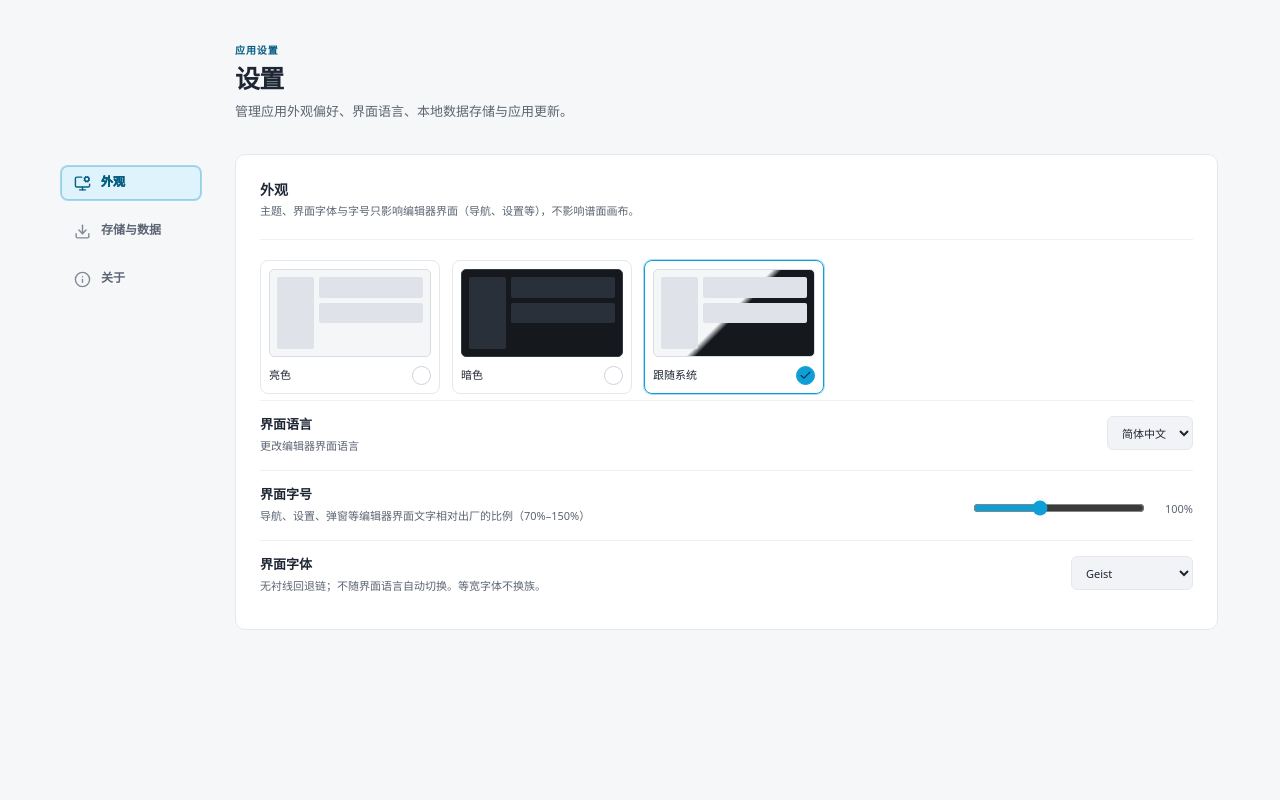
票 14 + 18 + 19 + 48 · 设置页社区素材缓存与数据目录块 › 回收策略项改名：缓存闲置天数 / 缓存上限（MB），各配独立 hint；启动时推送主进程
Step 1. Click the button "存储与数据" → (131, 230), box [61,214,201,248]
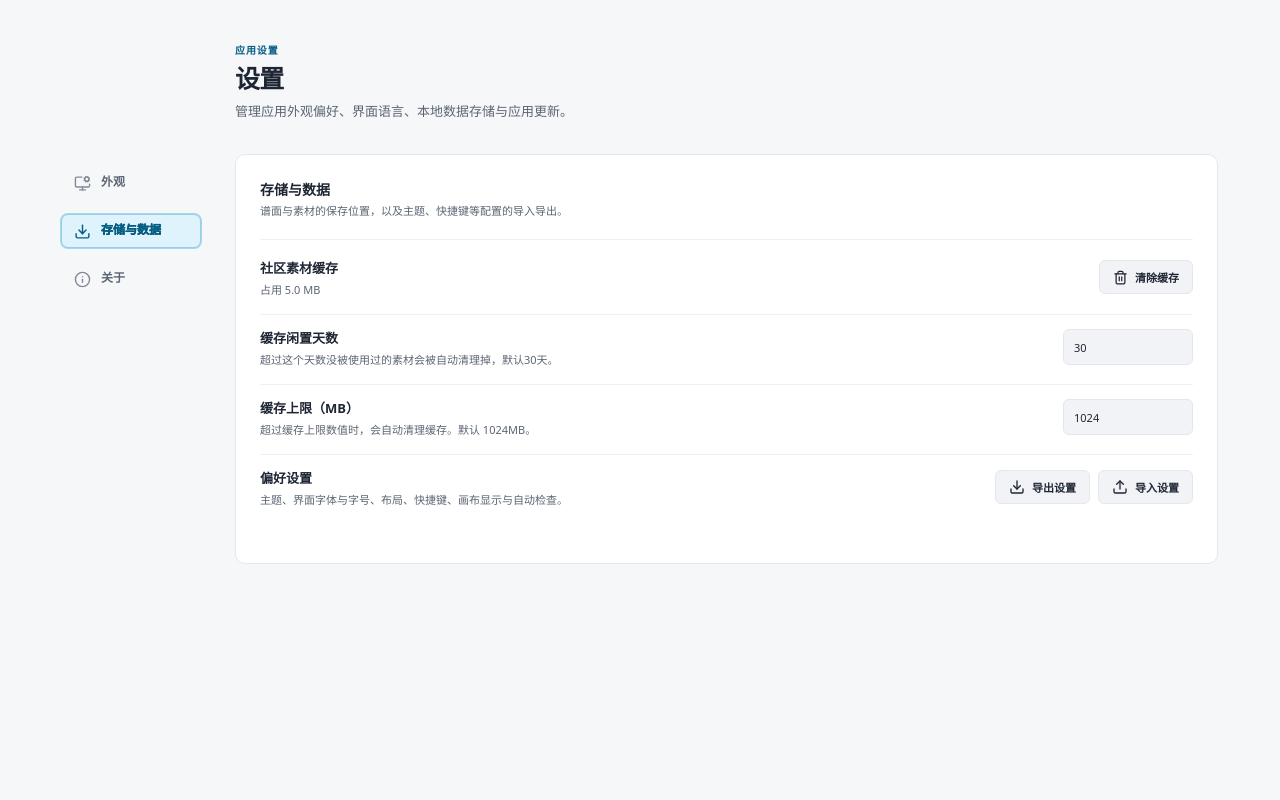
Now the text "社区素材缓存" is shown, box [260,258,338,276]
Now the number field named "缓存闲置天数" holds "30", box [1063,329,1193,365]
Now the number field named "缓存上限（MB）" holds "1024", box [1063,399,1193,435]
